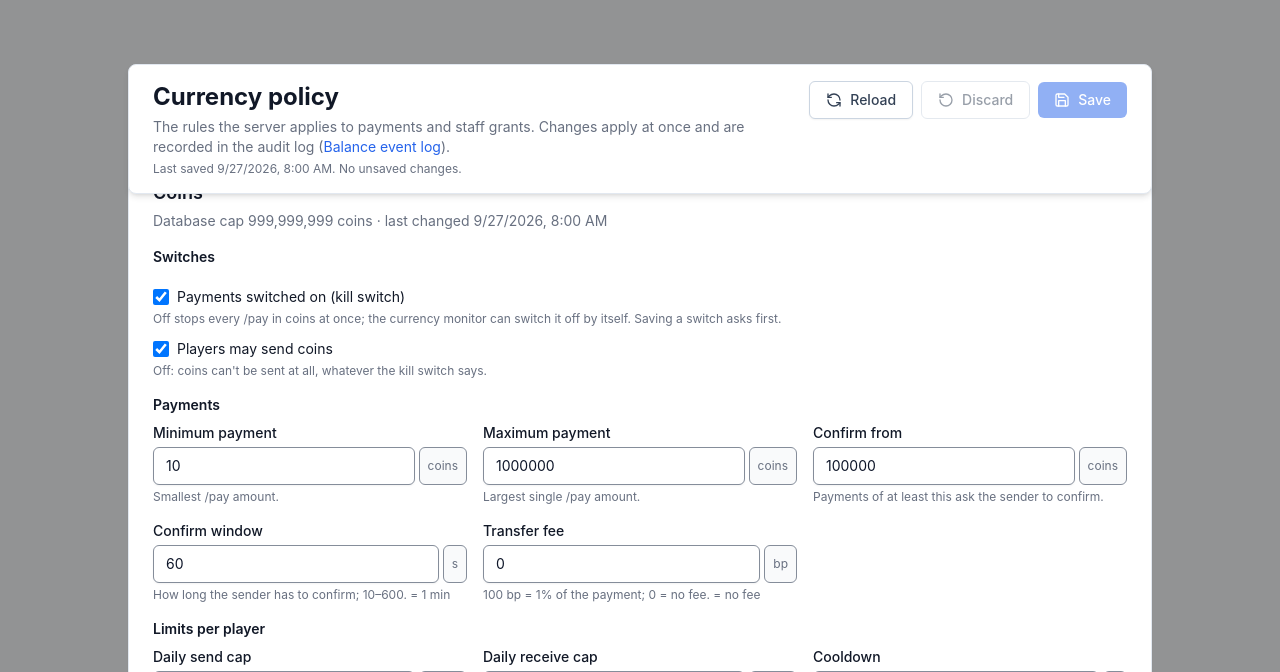
Test: CurrencyPolicyPage › shows other refusals in the header as the API explains them
Replace the text in the field labelled "Confirm window" with "5" at [296, 564], box [153,545,439,583]
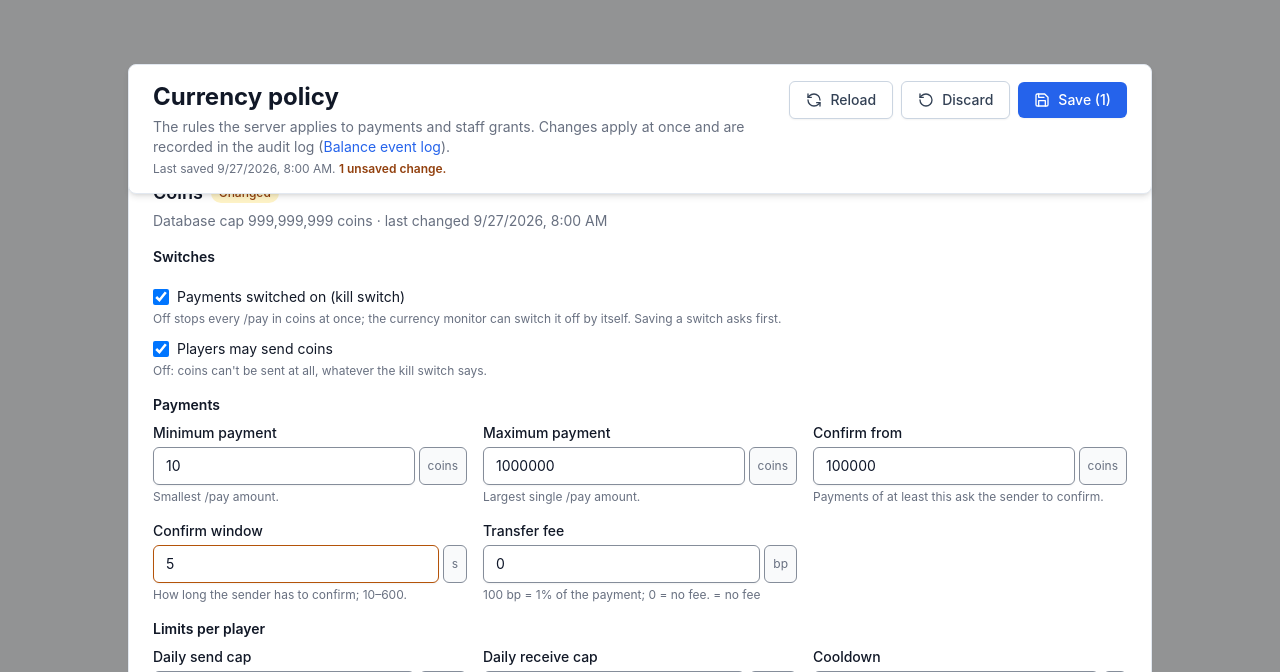
Click the button "Save (1)".
click(1073, 100)  # box [1018,82,1127,118]
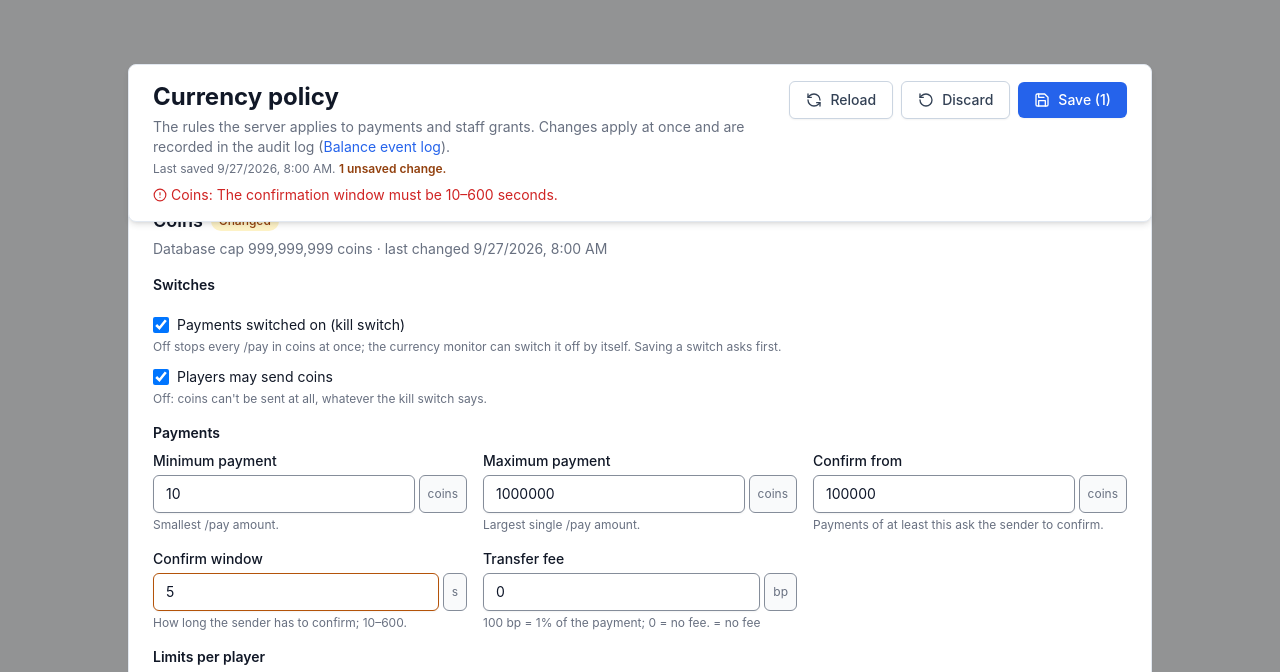
Check: the message reads "Coins: The confirmation window must be 10–600 seconds.", box [171,186,558,203]
